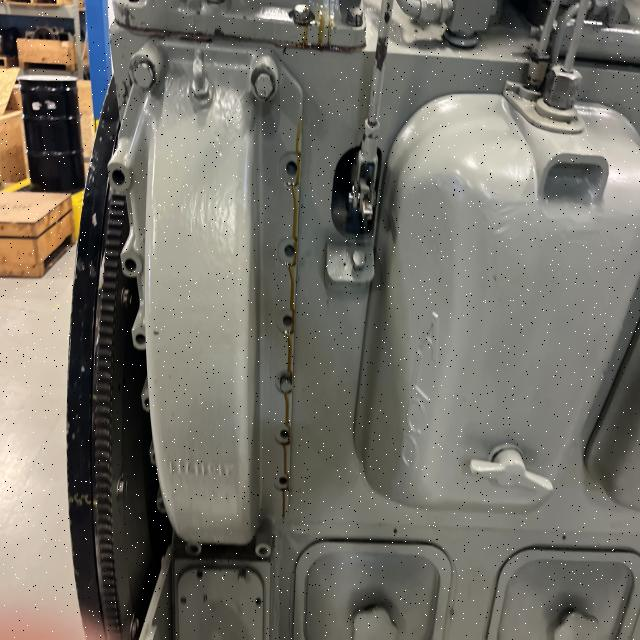Oil Leak: (274, 114, 302, 519), (314, 6, 327, 45), (301, 24, 308, 44)
